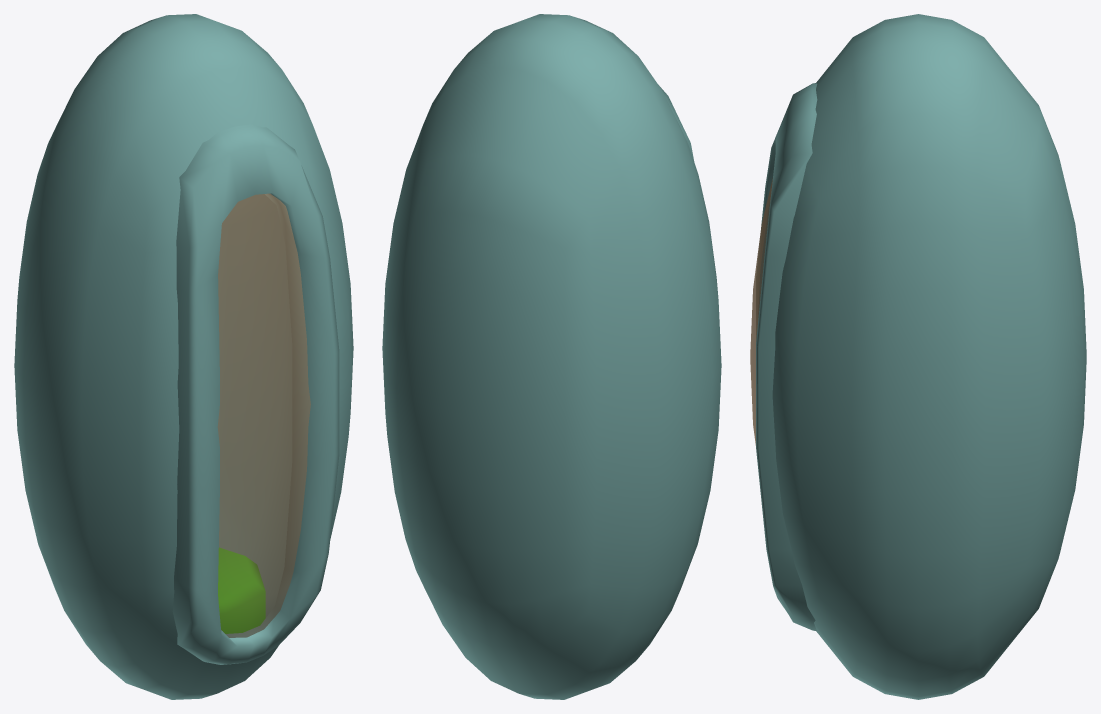
File: Appliances_Pill.fbx
3 views of the same model, side by side, from view 1: azimuth 30°, elevation 25°; view 2: azimuth 150°, elevation 25°; view 3: azimuth 270°, elevation 25° (orthographic).
Parts seen in each view (by area): view 1: Pill, Soup; view 2: Pill; view 3: Pill.
Part boxes in pixels (x1=…): Pill: x1=14, y1=14, x2=353, y2=699; Soup: x1=218, y1=547, x2=265, y2=633; Pill: x1=382, y1=14, x2=721, y2=699; Pill: x1=750, y1=14, x2=1086, y2=699.
Bounding box in the file's own units: 36.64 × 80.28 × 36.64.
